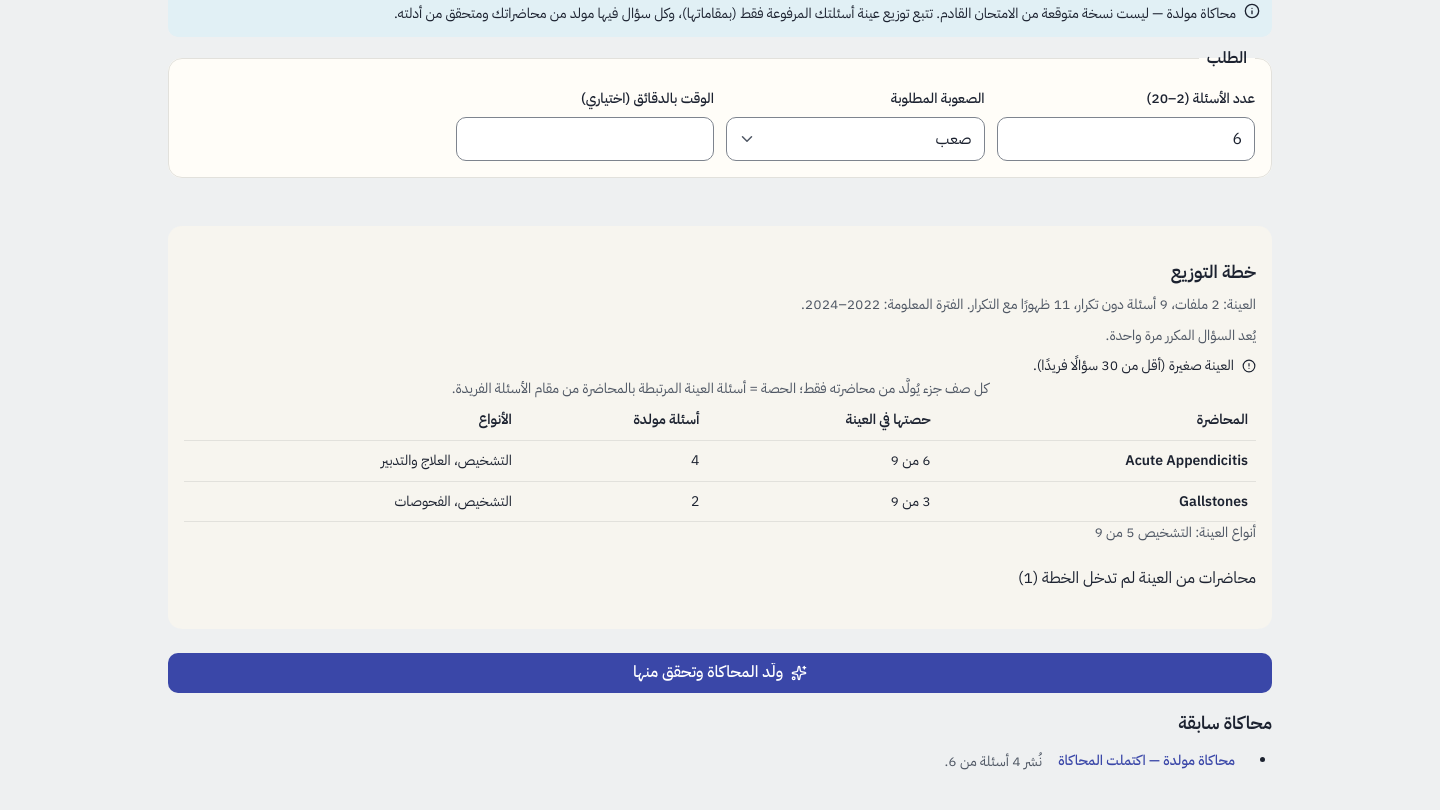
Scenario: SimulationScreen › with a provider: starts the simulation; a finished one links to its exam where every item is generated
(page scrolled)
Check: the button "ولّد المحاكاة وتحقق منها" is enabled, box [168, 653, 1272, 693]
Note: an earlier simulation is listed and can be opened
Click the button "محاكاة مولدة — اكتملت المحاكاة" at (1147,762), box [1045, 746, 1248, 778]
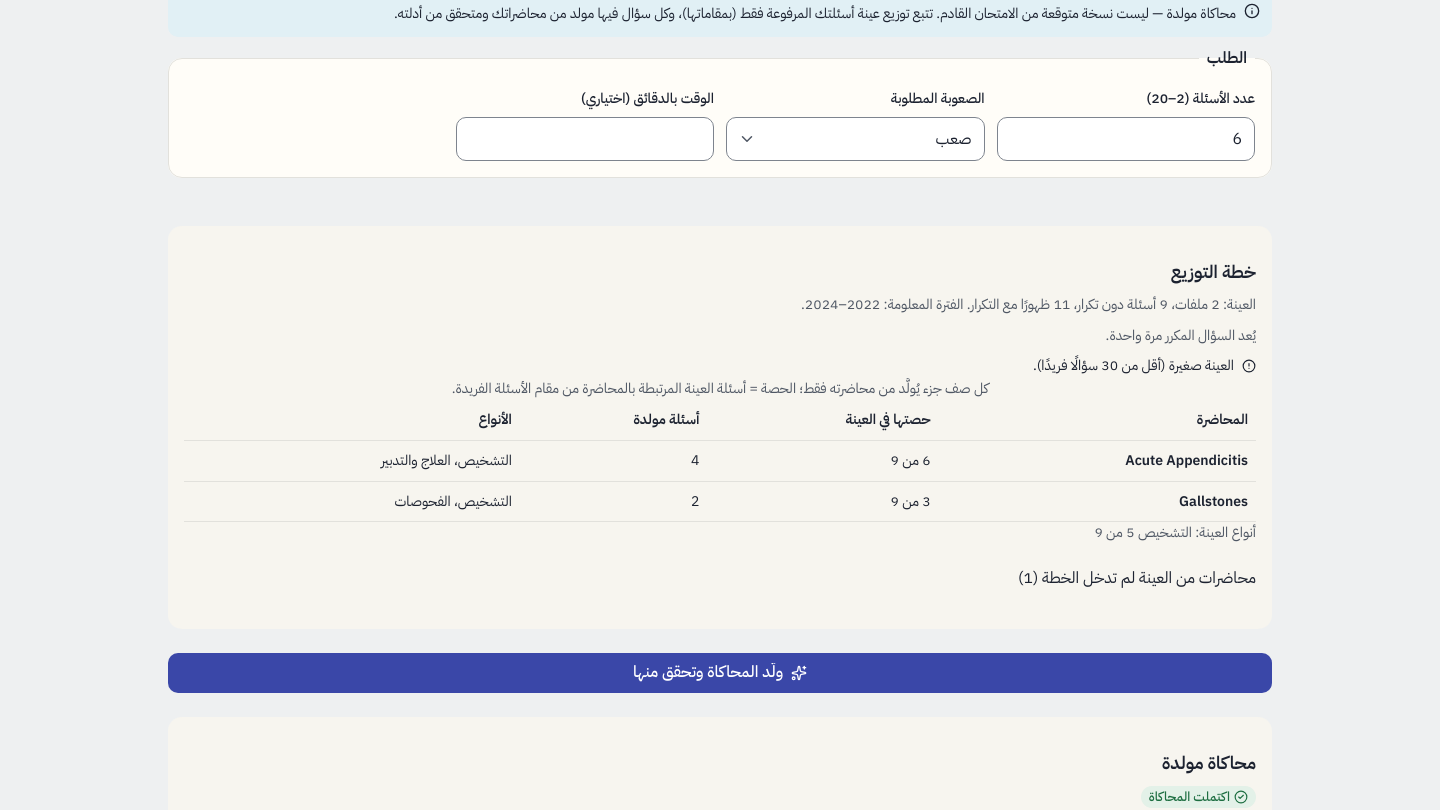
Click the button "ولّد المحاكاة وتحقق منها" at (720,673), box [168, 653, 1272, 693]
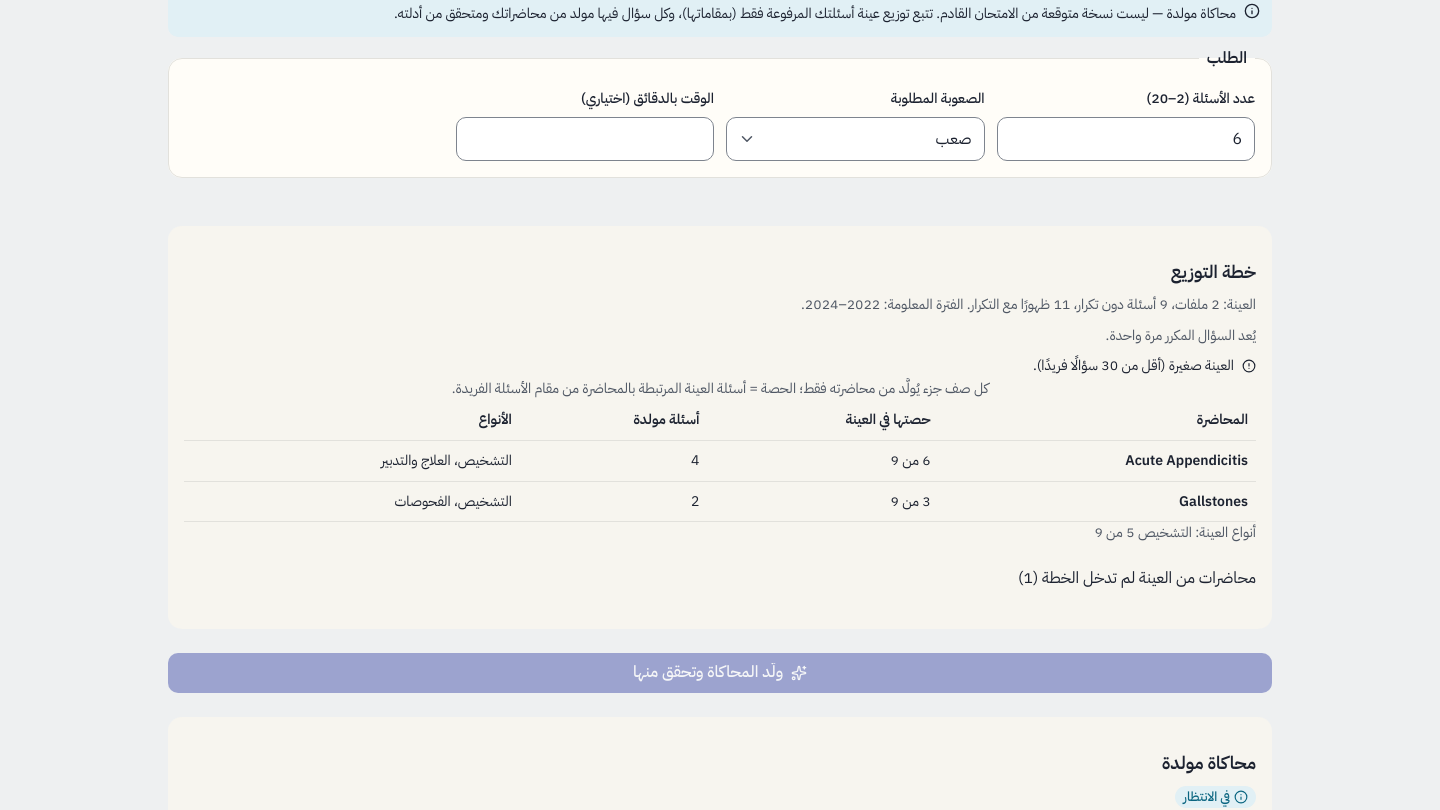
Check: the text "في الانتظار" is shown, box [1183, 786, 1230, 807]
